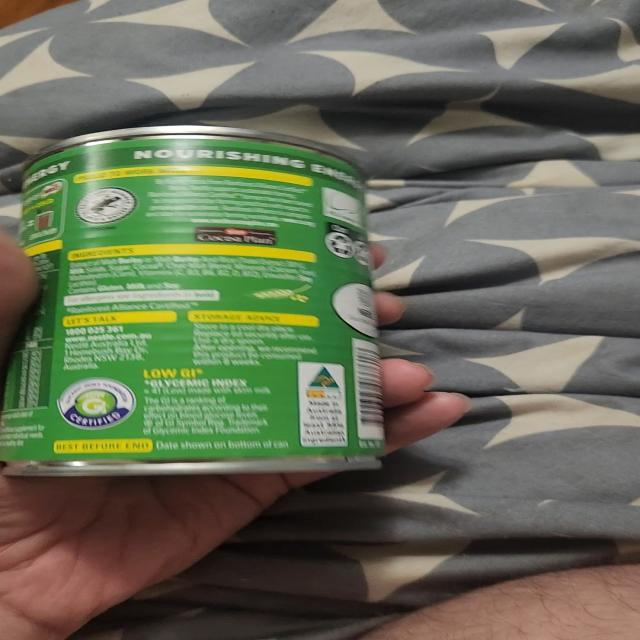nestle_milo_tin: (0, 125, 383, 476)
